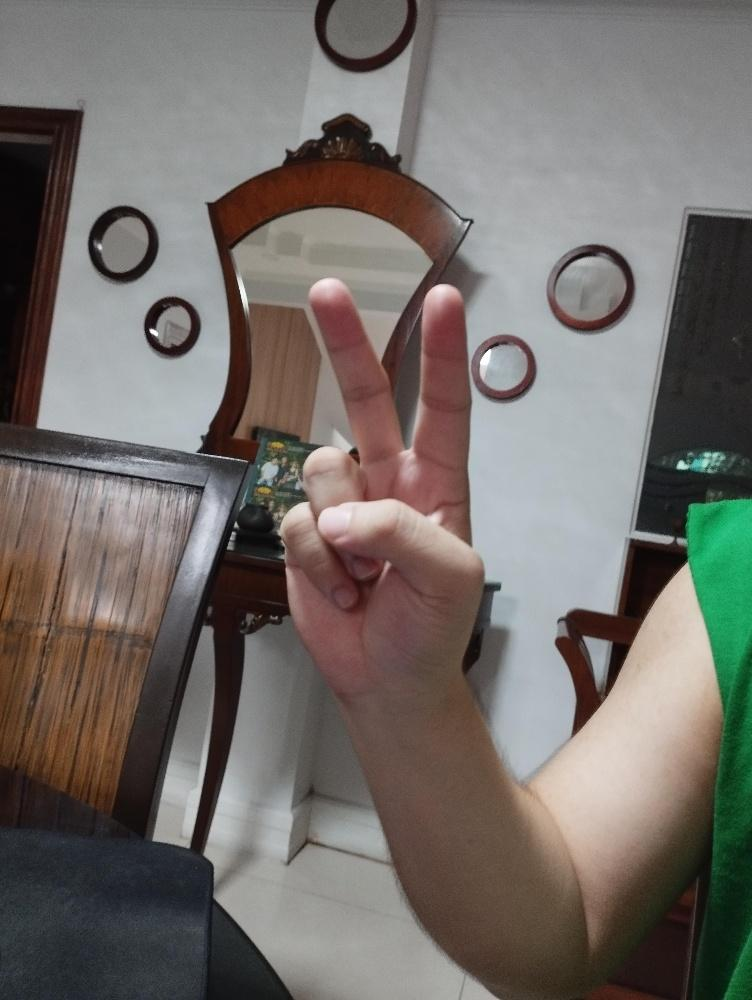v: (276, 274, 489, 701)
